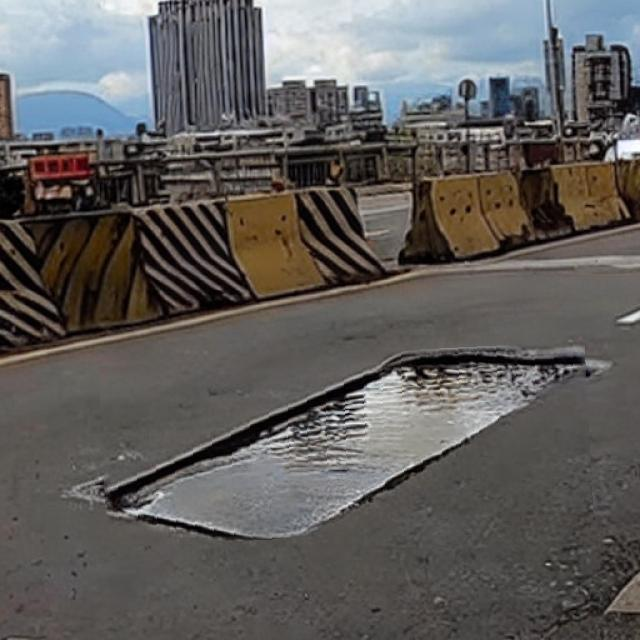puddle: (101, 349, 592, 543)
